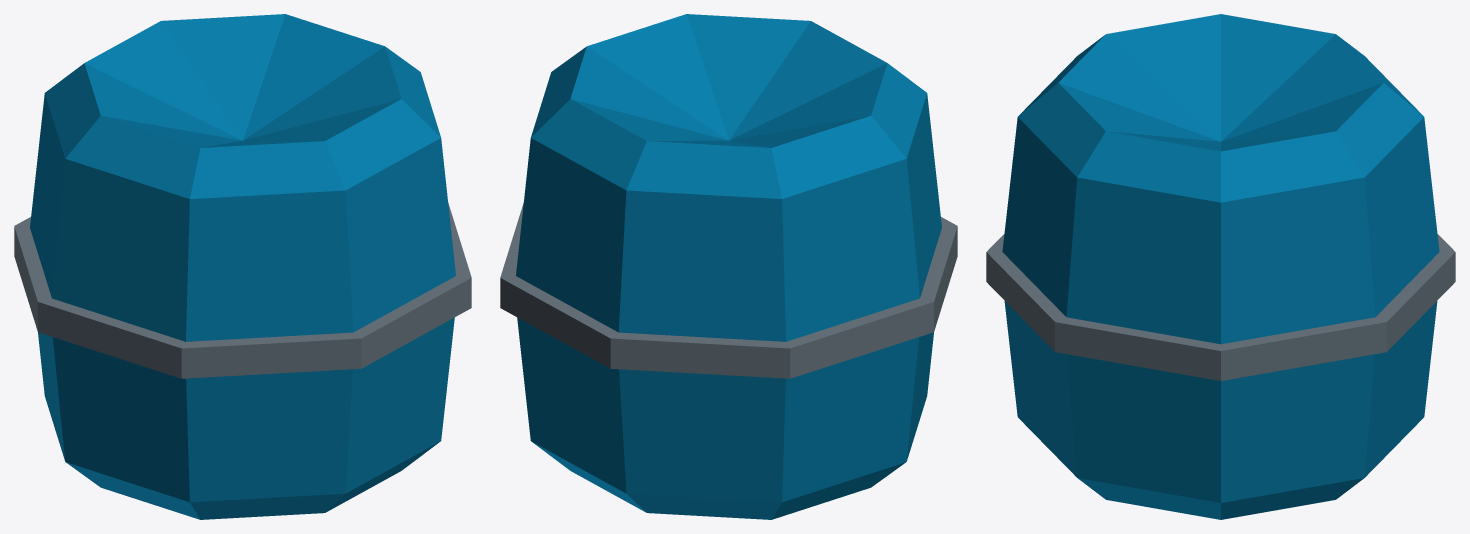
Rendered from Barrel.fbx.
3 views of the same model, side by side, from view 1: azimuth 30°, elevation 25°; view 2: azimuth 150°, elevation 25°; view 3: azimuth 270°, elevation 25° (orthographic).
Parts seen in each view (by area): view 1: Barrel; view 2: Barrel; view 3: Barrel.
Boxes of the visible parts, x1=… form: Barrel: x1=14, y1=14, x2=471, y2=519; Barrel: x1=500, y1=14, x2=957, y2=519; Barrel: x1=986, y1=14, x2=1455, y2=519.
Size of the model in its own units: 4.23 by 3.67 by 4.23.
